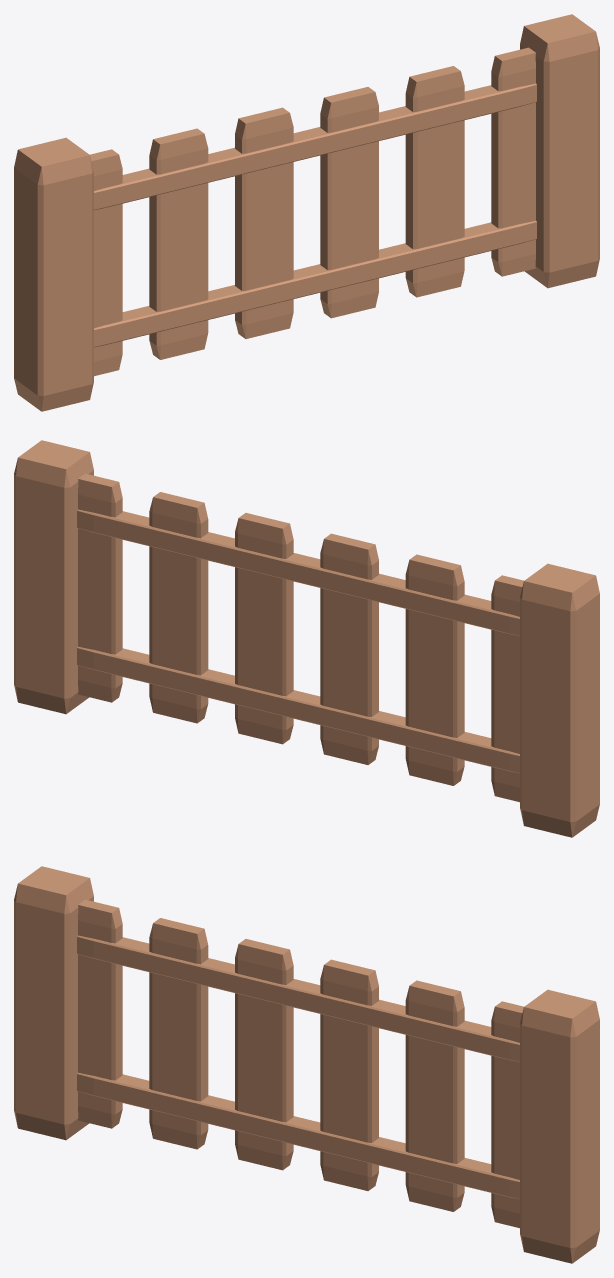
Rendered from b19_split_rail_fence.glb.
3 renders of one model, top to bottom at view 1: azimuth 30°, elevation 25°; view 2: azimuth 150°, elevation 25°; view 3: azimuth 330°, elevation 25°, orthographic.
Visible parts, largest first — view 1: b19_split_rail_fence; view 2: b19_split_rail_fence; view 3: b19_split_rail_fence.
Part boxes in pixels (x1,y1,x2,y2): b19_split_rail_fence: (14, 14, 599, 411); b19_split_rail_fence: (14, 440, 599, 837); b19_split_rail_fence: (14, 866, 599, 1263).
Size of the model in its own units: 3.17 by 1.32 by 0.27.
